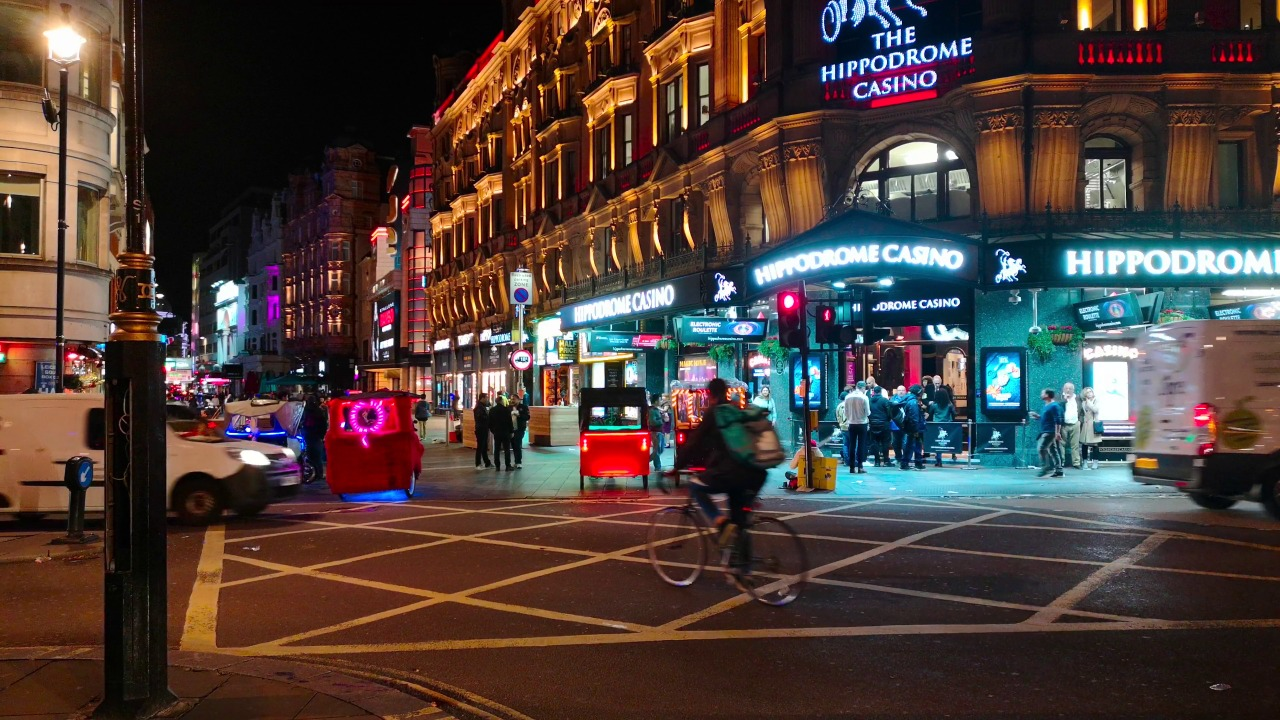car: (1, 398, 304, 528), (1128, 313, 1280, 511), (325, 395, 438, 492), (568, 384, 654, 491), (667, 369, 757, 458), (223, 400, 323, 478)
person: (649, 378, 821, 612), (1025, 385, 1069, 479), (645, 397, 678, 497), (924, 389, 964, 467), (782, 432, 828, 493), (866, 387, 900, 467), (1079, 388, 1109, 473), (1059, 378, 1082, 469), (848, 382, 870, 477), (903, 380, 925, 474), (469, 390, 494, 472), (509, 393, 530, 477), (492, 395, 513, 471), (749, 388, 784, 432), (415, 393, 434, 441), (658, 392, 670, 452), (864, 370, 890, 396), (445, 385, 463, 419), (835, 393, 851, 431), (929, 373, 951, 396), (914, 371, 937, 389), (889, 384, 913, 401)
